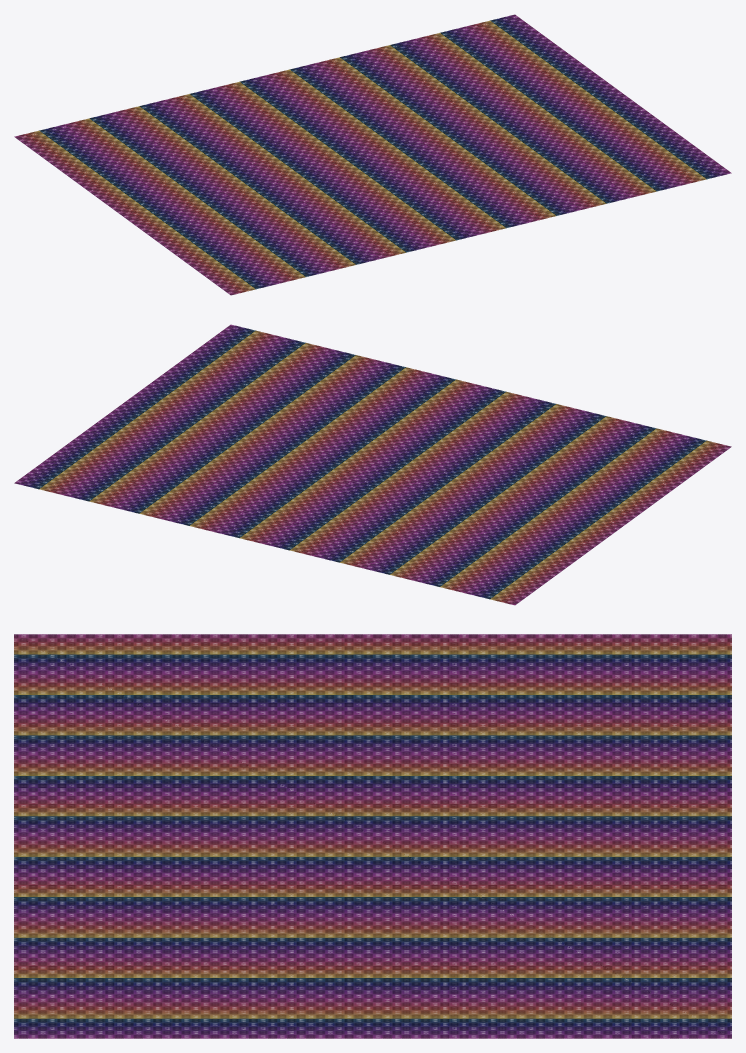
Rendered from game_environment.fbx.
The picture shows the model from 3 angles, top to bottom: view 1: azimuth 30°, elevation 25°; view 2: azimuth 150°, elevation 25°; view 3: azimuth 270°, elevation 25°; orthographic projection. The views are drawn at different scales.
Parts seen in each view (by area): view 1: water_plane; view 2: water_plane; view 3: water_plane.
Part boxes in pixels (left/top/right/bottom): water_plane: left=14, top=14, right=731, bottom=295; water_plane: left=14, top=324, right=731, bottom=605; water_plane: left=14, top=634, right=731, bottom=1038.
Size of what is drawn, in the model's own units: 7874 by 118 by 5906.
Materials: 2 (2 with a texture image).
